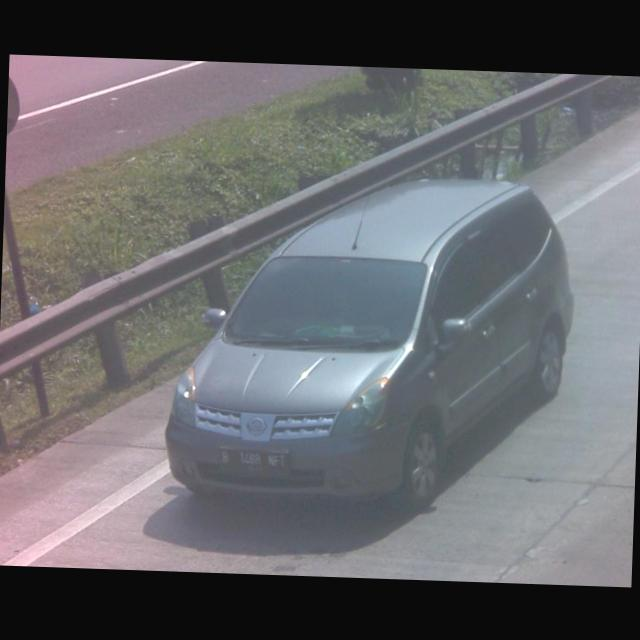plate: (213, 442, 291, 475)
